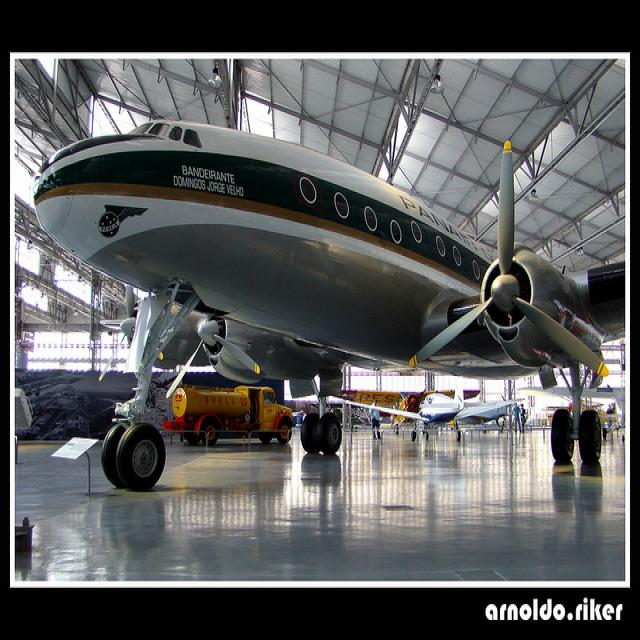Vehicle: (161, 383, 299, 446)
